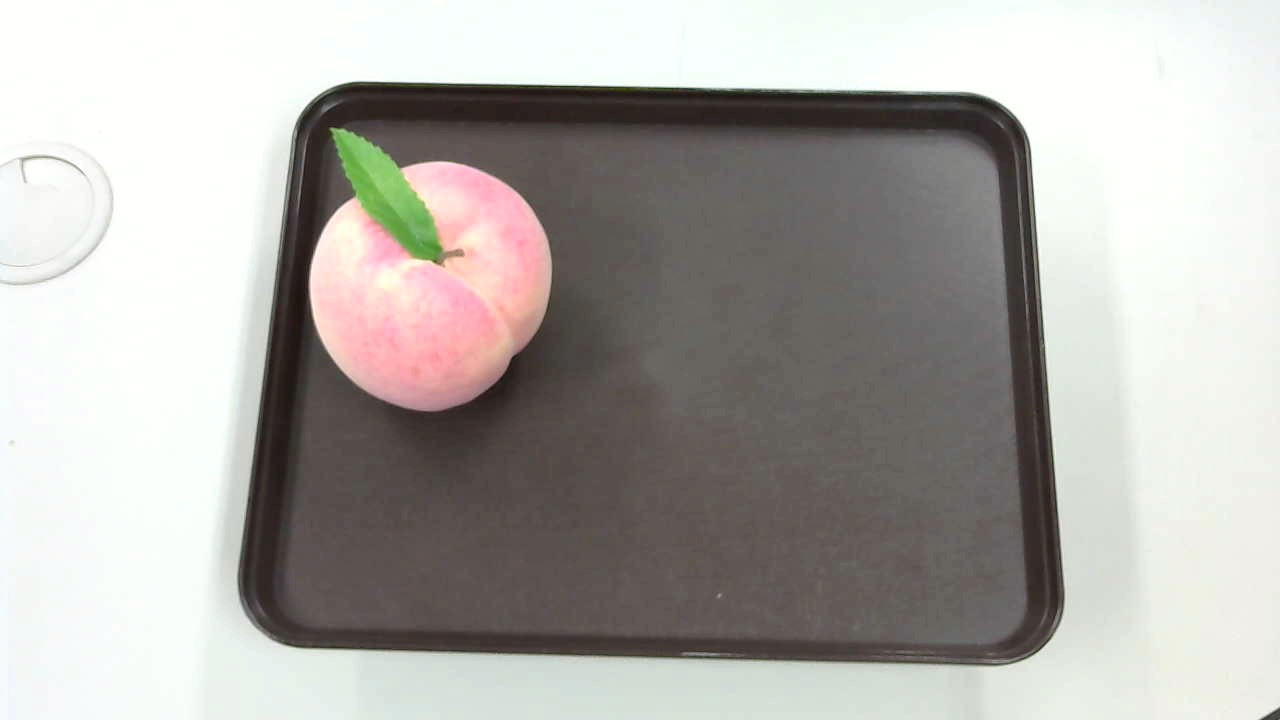peach: (298, 115, 559, 419)
